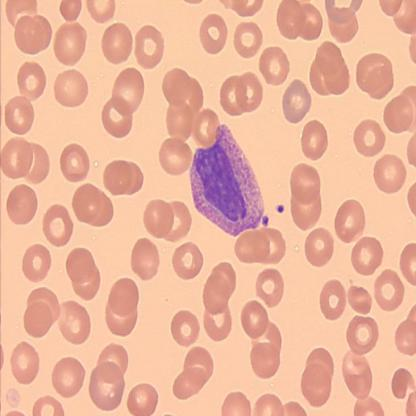Metamyelocyte: (188, 122, 268, 240)
